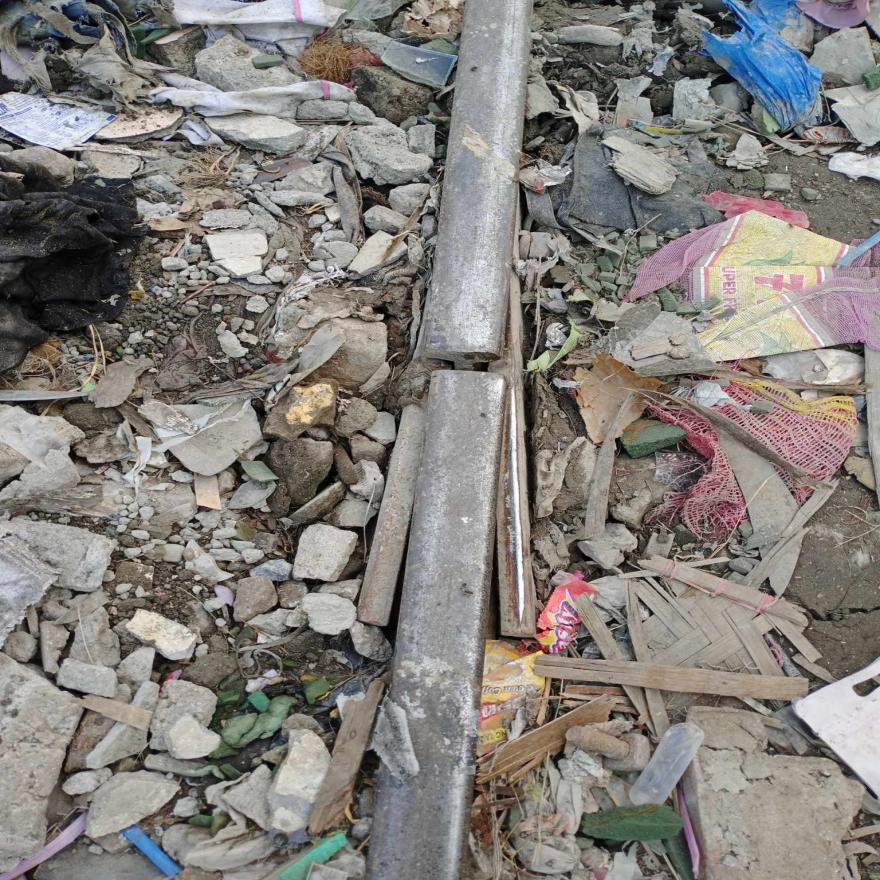railway-gap: (382, 313, 532, 412)
